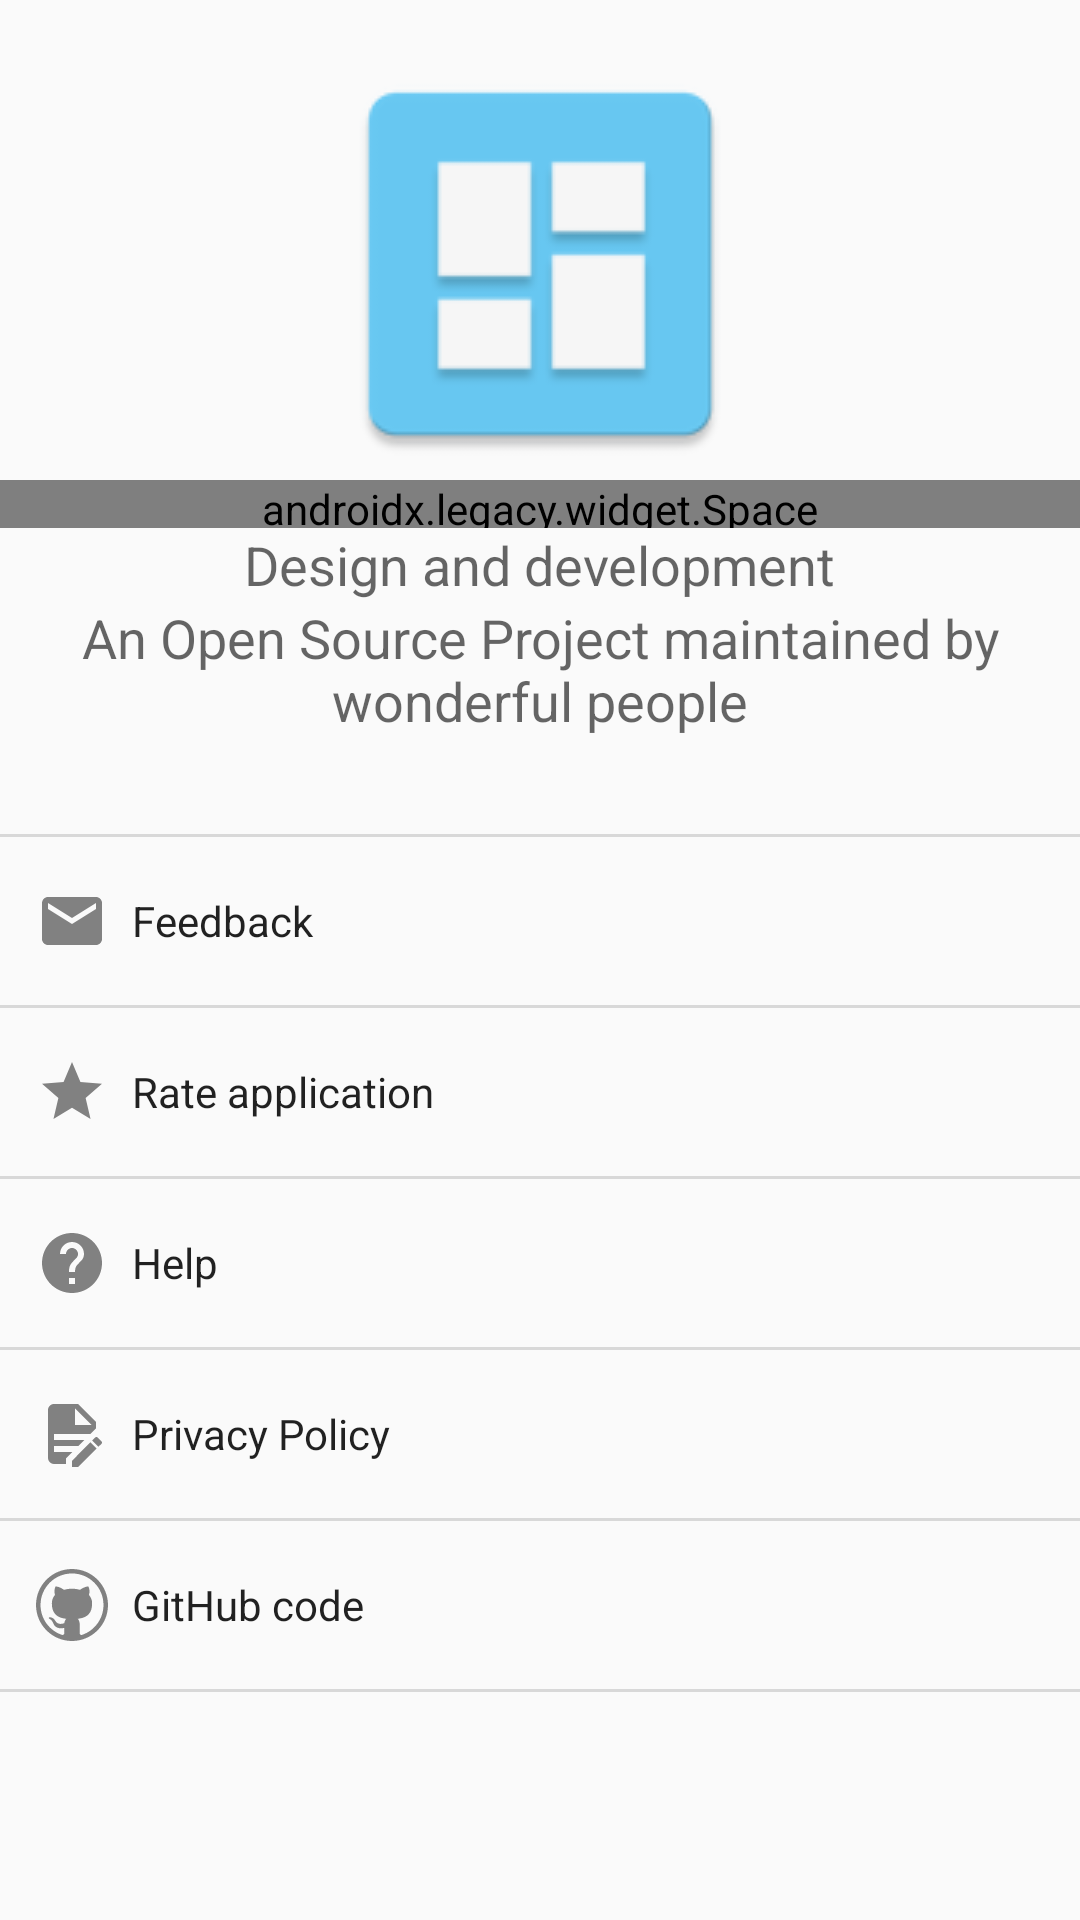

Locate icon controls on the screen. Image size 1080px x 1920px, boxes as (x1, y1, x2, y2).
email: (42, 897, 102, 945)
file edit: (48, 1404, 102, 1467)
star: (42, 1062, 102, 1119)
